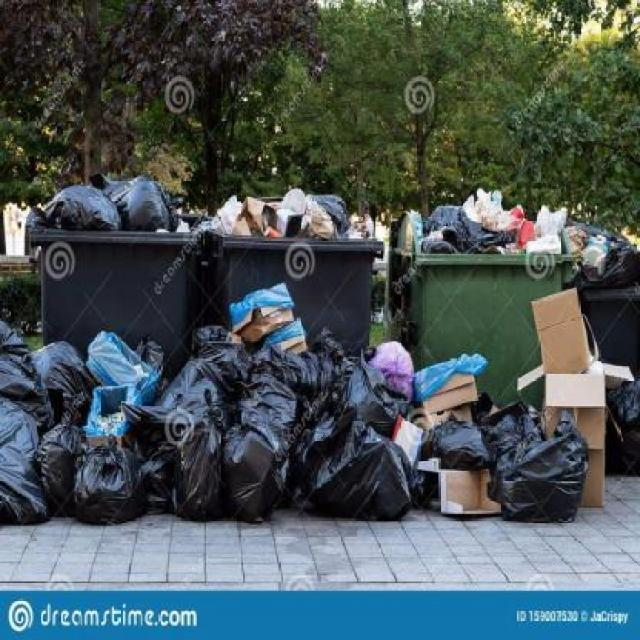garbage: (2, 315, 618, 522), (37, 171, 594, 255)
